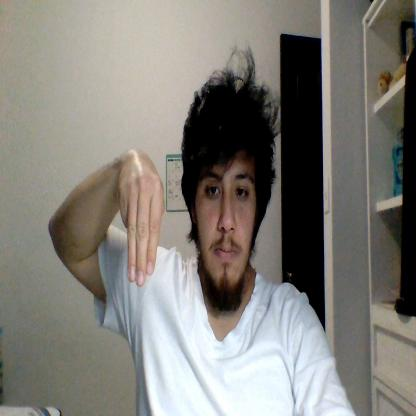M: (118, 150, 164, 284)
